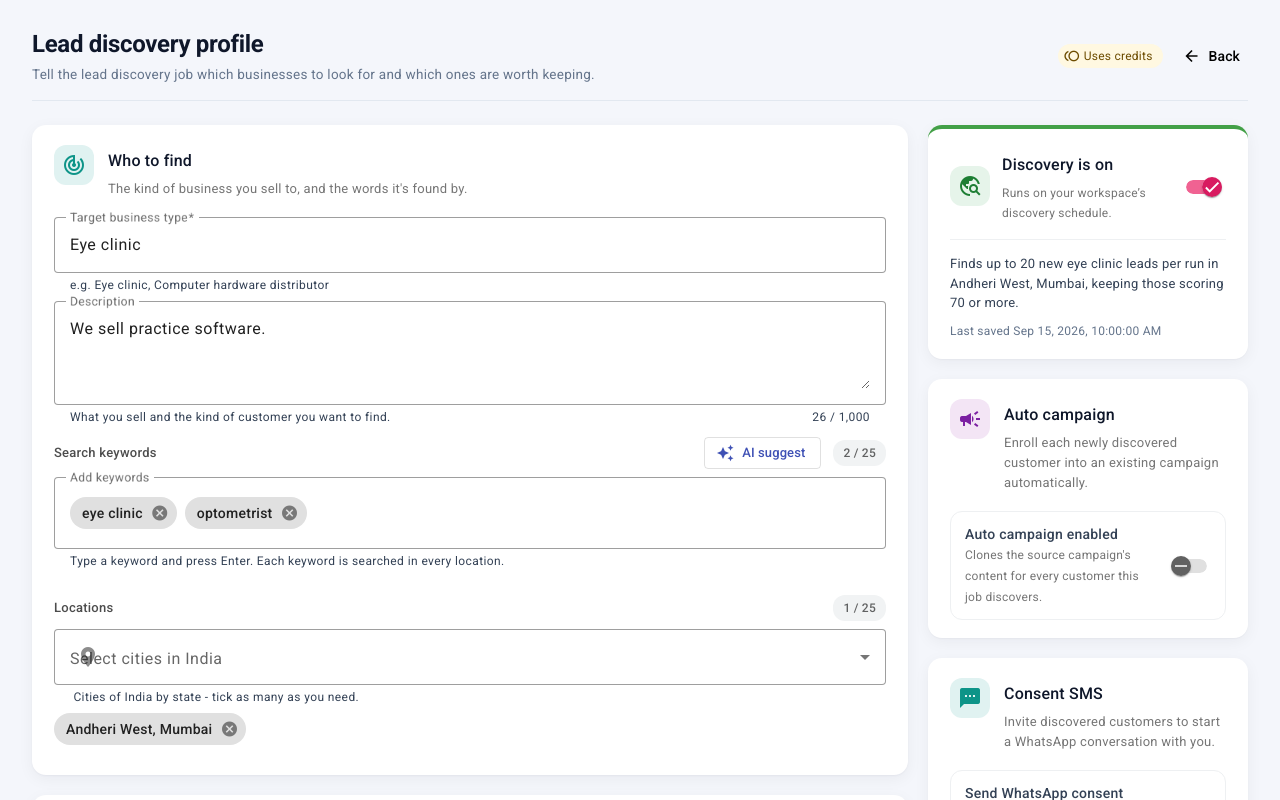
Test: LeadDiscoveryProfileComponent › AI suggest for the keywords › shows what came back, says where from, and adds nothing by itself
This screenshot has width=1280, height=800.
Click the button with class "suggest-button" at (763, 453), box [704,437,821,469]
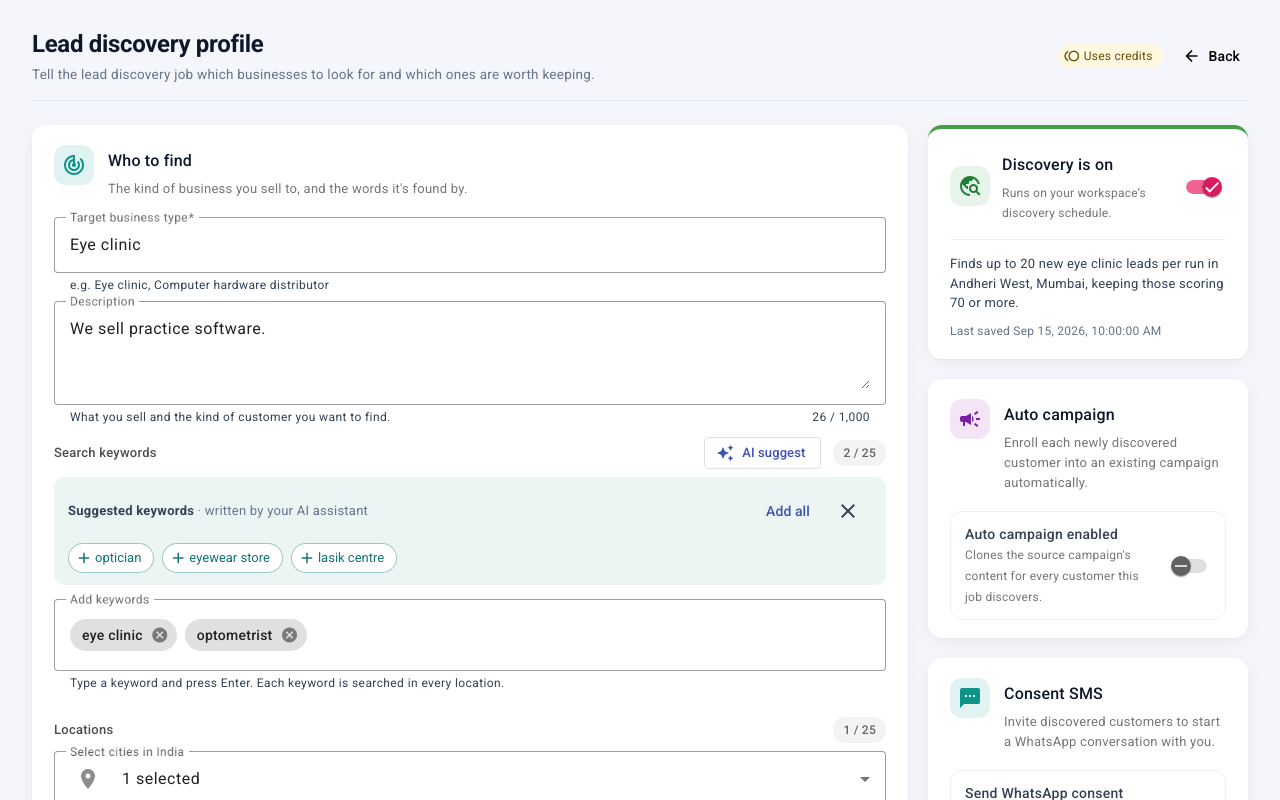
Expected: the text "written by your AI assistant" is shown, [194,503,368,518]
